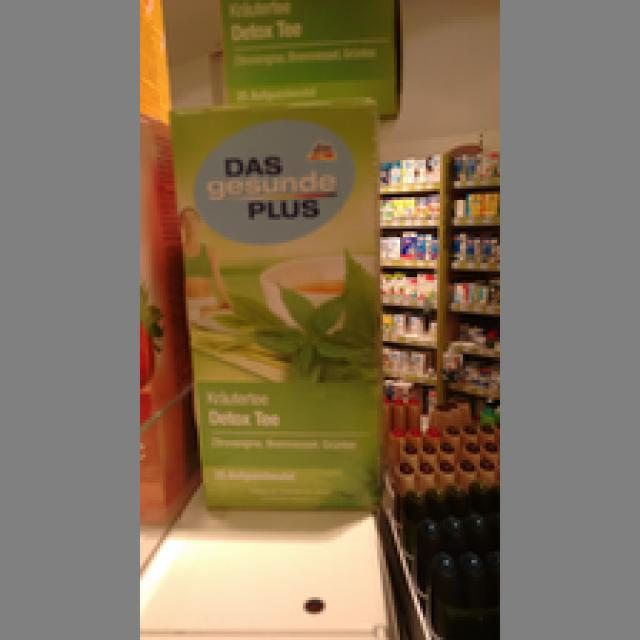groceries: (166, 91, 380, 512)
